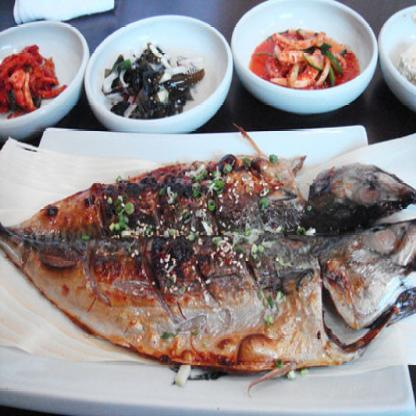Peixe: (0, 139, 416, 389)
